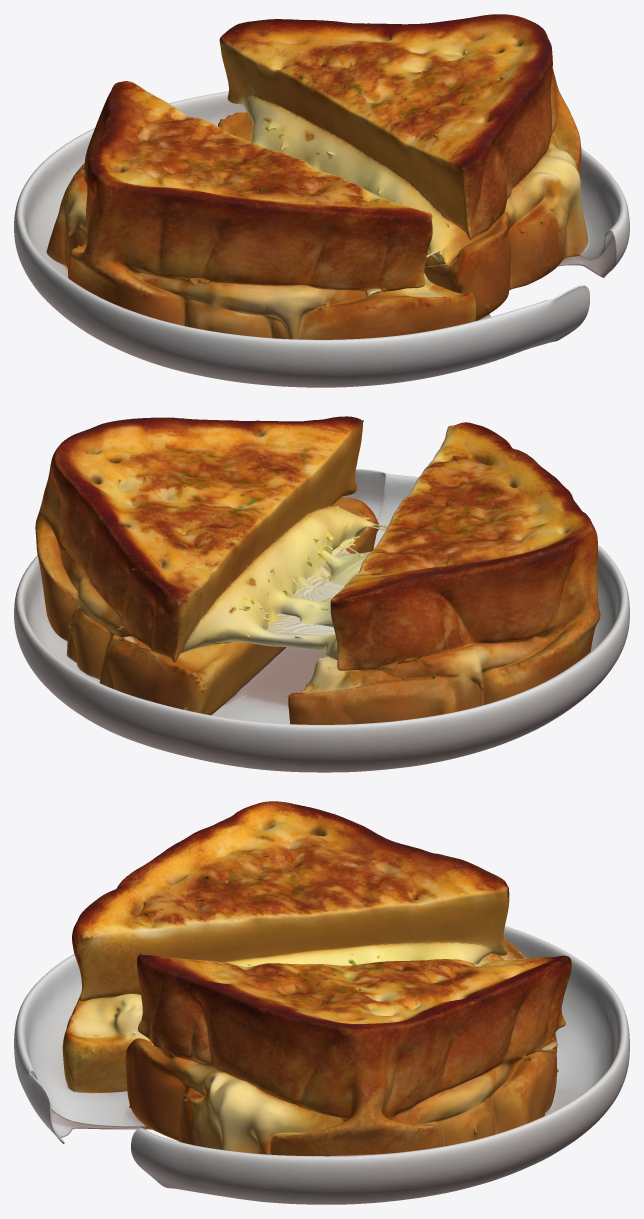
File: grilled cheese sandwich 3d model.glb
3 views of the same model, one above another, from view 1: azimuth 30°, elevation 25°; view 2: azimuth 150°, elevation 25°; view 3: azimuth 270°, elevation 25° (orthographic).
Parts seen in each view (by area): view 1: tripo_node_76df0d2c-3d21-4868-95eb-d7426d008f7d; view 2: tripo_node_76df0d2c-3d21-4868-95eb-d7426d008f7d; view 3: tripo_node_76df0d2c-3d21-4868-95eb-d7426d008f7d.
Boxes of the visible parts, x1,y1,x2,y2 form: tripo_node_76df0d2c-3d21-4868-95eb-d7426d008f7d: [14, 14, 629, 387]; tripo_node_76df0d2c-3d21-4868-95eb-d7426d008f7d: [14, 416, 629, 772]; tripo_node_76df0d2c-3d21-4868-95eb-d7426d008f7d: [14, 801, 629, 1204].
Size of the model in its own units: 0.9785 by 0.3221 by 0.9801.
1 material, 1 textured.
